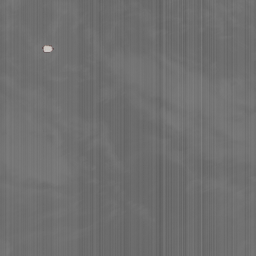Target: (41, 43, 55, 54)
